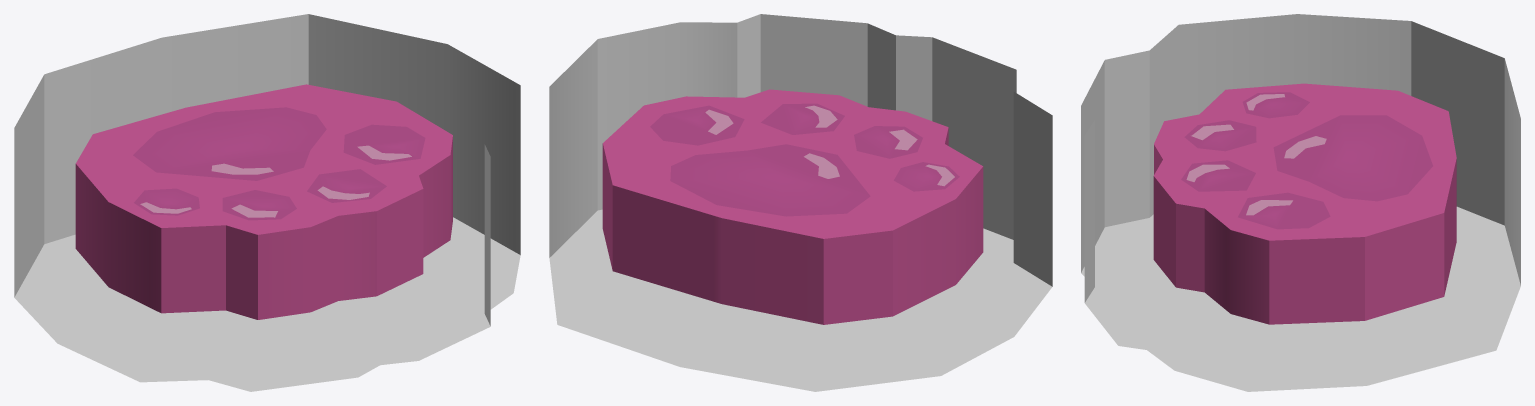
Rendered from DisneyPawsicleIcon.glb.
3 renders of one model, left to right at view 1: azimuth 30°, elevation 25°; view 2: azimuth 150°, elevation 25°; view 3: azimuth 270°, elevation 25°, orthographic. The views are drawn at different scales.
Parts seen in each view (by area): view 1: DisneyPawsicleIcon; view 2: DisneyPawsicleIcon; view 3: DisneyPawsicleIcon.
Boxes of the visible parts, box(x1,y1,x2,y2) form: DisneyPawsicleIcon: box(14, 14, 520, 391); DisneyPawsicleIcon: box(549, 14, 1052, 391); DisneyPawsicleIcon: box(1081, 14, 1520, 391).
Size of the model in its own units: 0.1994 by 0.0739 by 0.1761.
